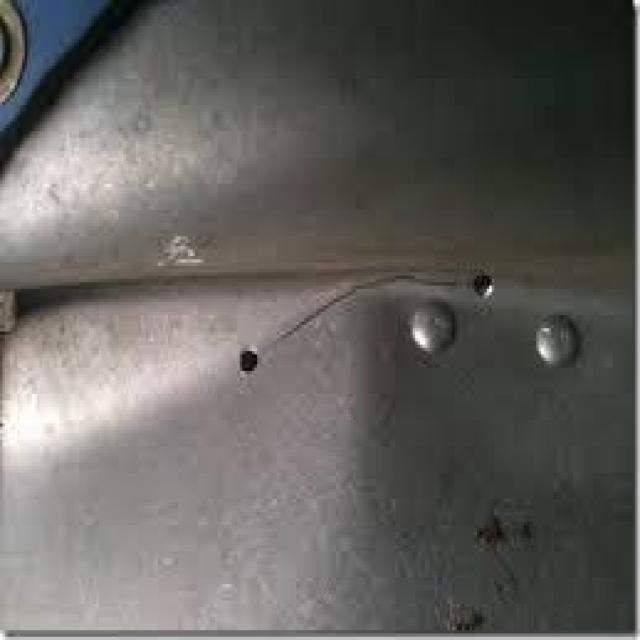defect: (263, 270, 460, 356)
